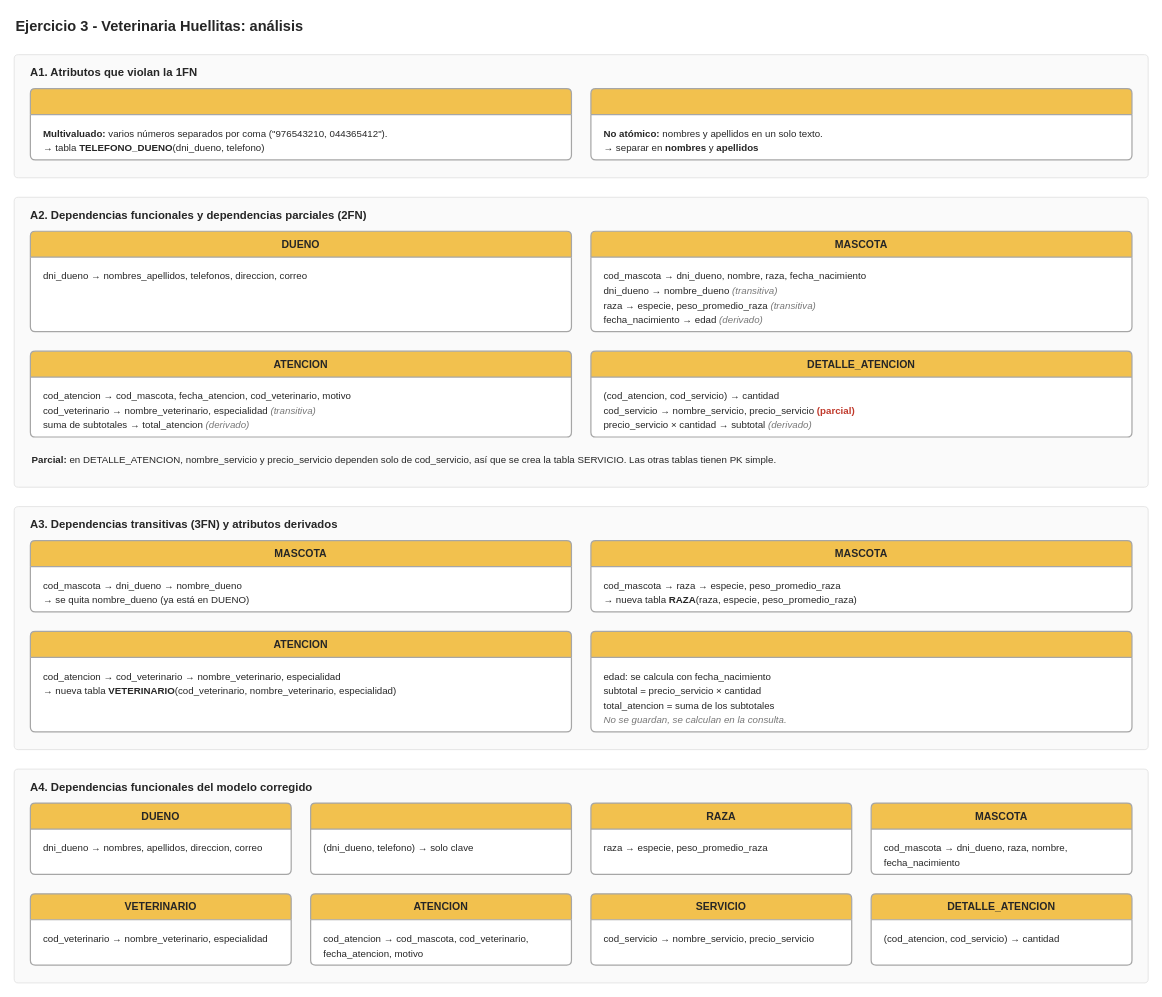
This 1162x997 diagram has some shape labels left out. The shapes that lost their labels are listed below. From the top down, each one's box as (x1, y1, x2, y2) in pixels, then its label:
(29, 88, 572, 160): telefonos (DUENO)
(590, 88, 1132, 160): nombres_apellidos (DUENO)
(590, 630, 1132, 732): Atributos derivados
(310, 802, 572, 875): TELEFONO_DUENO
